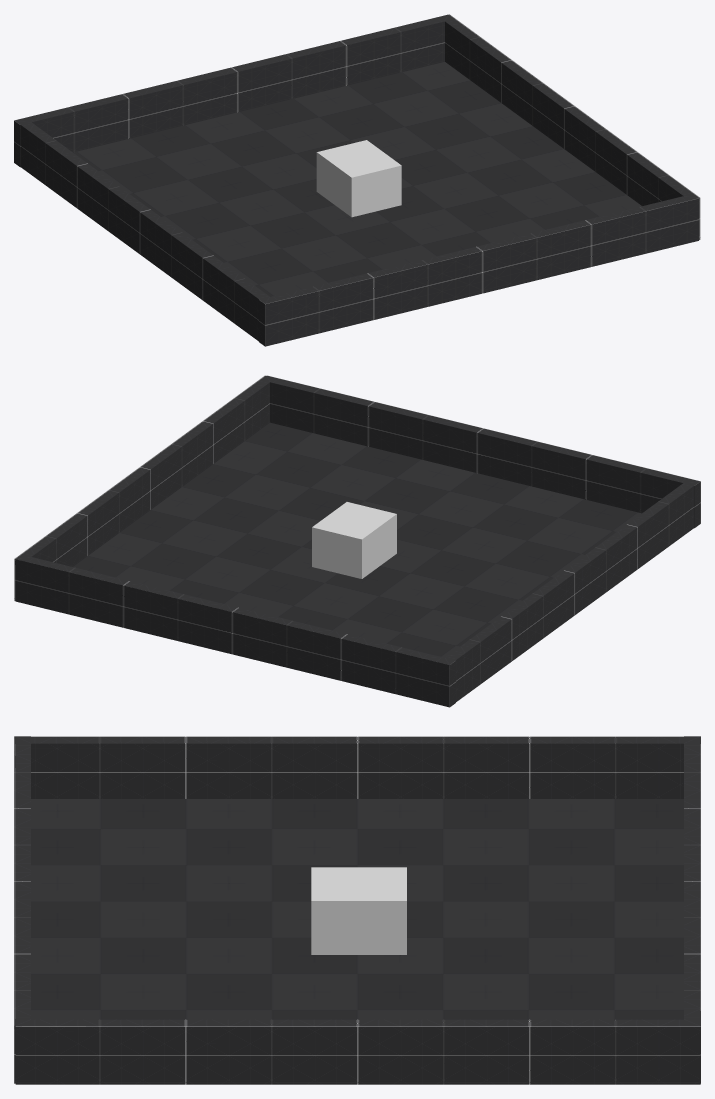
The model's file is pol.glb.
The picture shows the model from 3 angles, top to bottom: view 1: azimuth 30°, elevation 25°; view 2: azimuth 150°, elevation 25°; view 3: azimuth 270°, elevation 25°; orthographic projection. The views are drawn at different scales.
Parts seen in each view (by area): view 1: Floor, Walls, Cube.001; view 2: Floor, Walls, Cube.001; view 3: Floor, Walls, Cube.001.
Part boxes in pixels (x1,y1,x2,y2): Floor: (73,62,699,296); Walls: (14,14,700,346); Cube.001: (316,140,401,217); Floor: (73,422,641,657); Walls: (14,375,700,707); Cube.001: (312,502,396,578); Floor: (15,799,699,1082); Walls: (14,736,700,1084); Cube.001: (311,867,406,954).
Size of the model in its own units: 80.44 by 7.46 by 80.22.
Materials: 2 (2 with a texture image).
